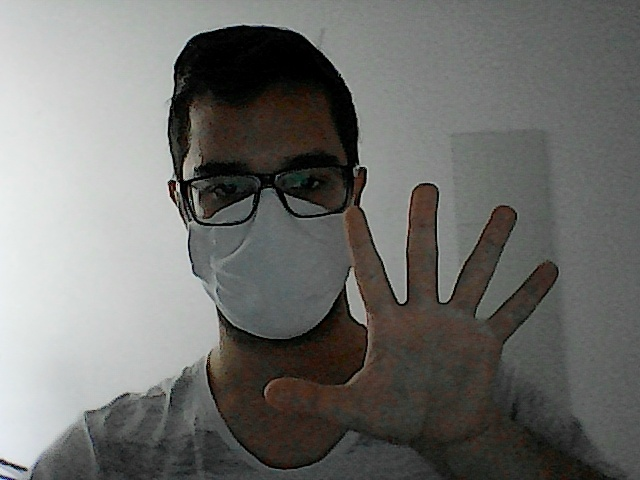jump: (258, 176, 568, 451)
